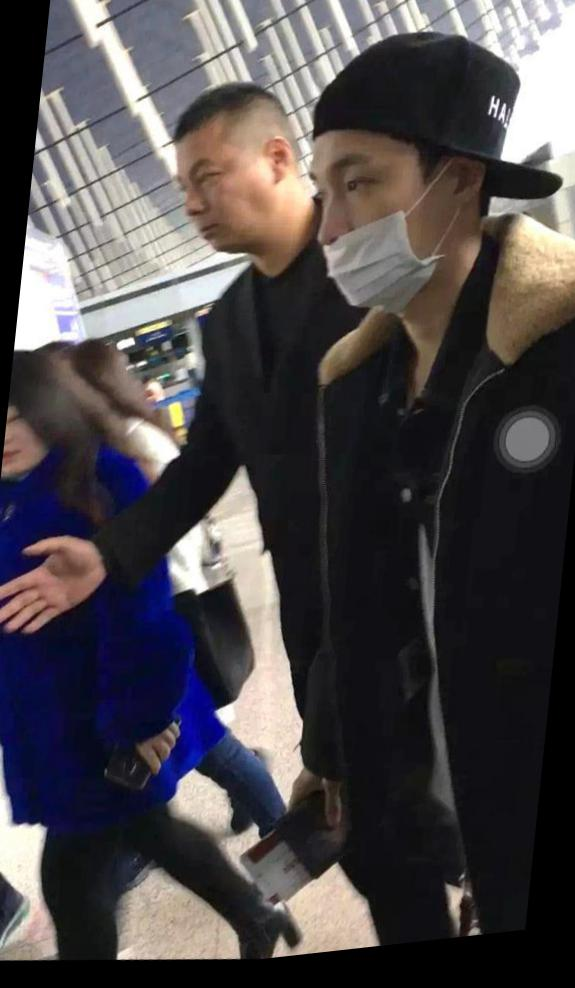NONE: (171, 134, 276, 270), (2, 396, 61, 479)
WRONG: (294, 154, 460, 332)
